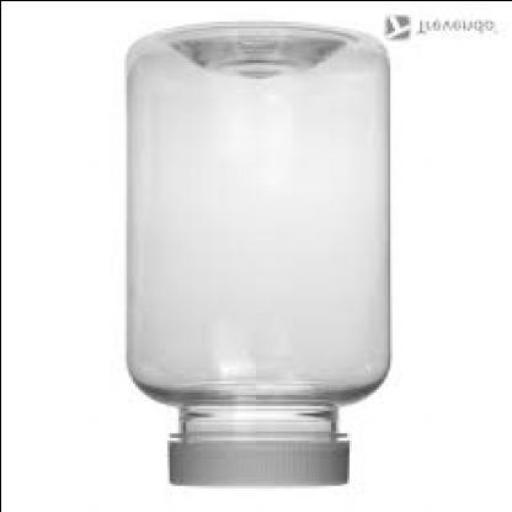glass: (120, 28, 387, 438)
plastic: (161, 440, 346, 488)
